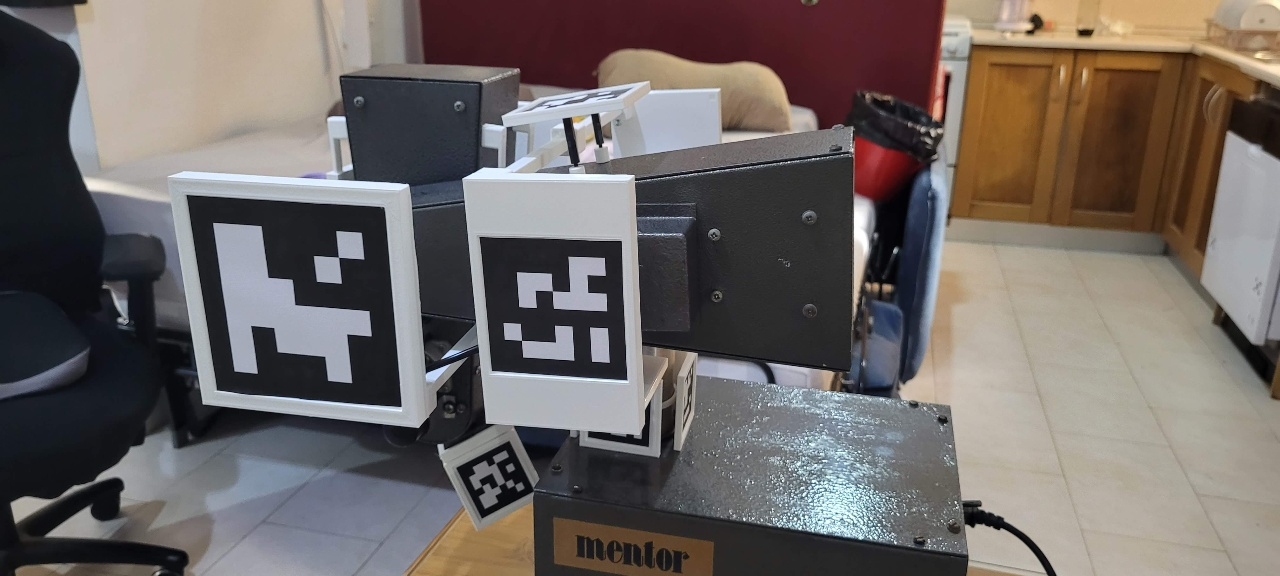Robot: (166, 63, 856, 533)
